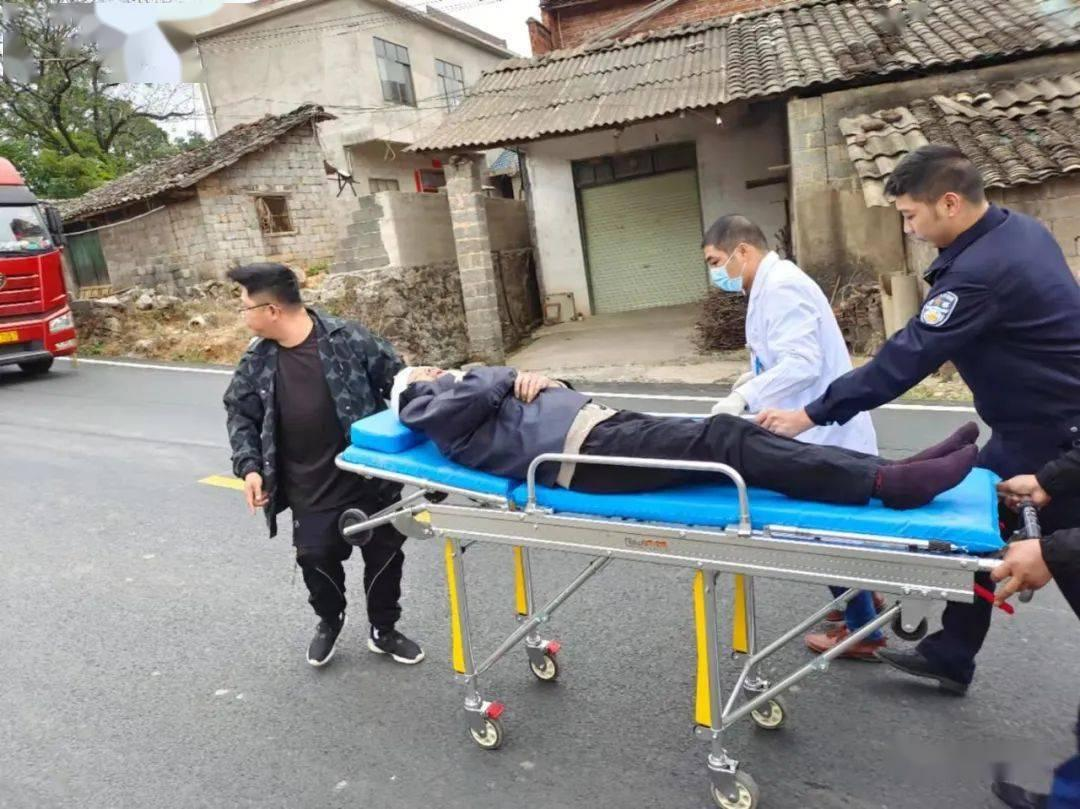down: (378, 333, 985, 519)
up: (863, 141, 1080, 699), (219, 245, 440, 678), (687, 216, 888, 465)
